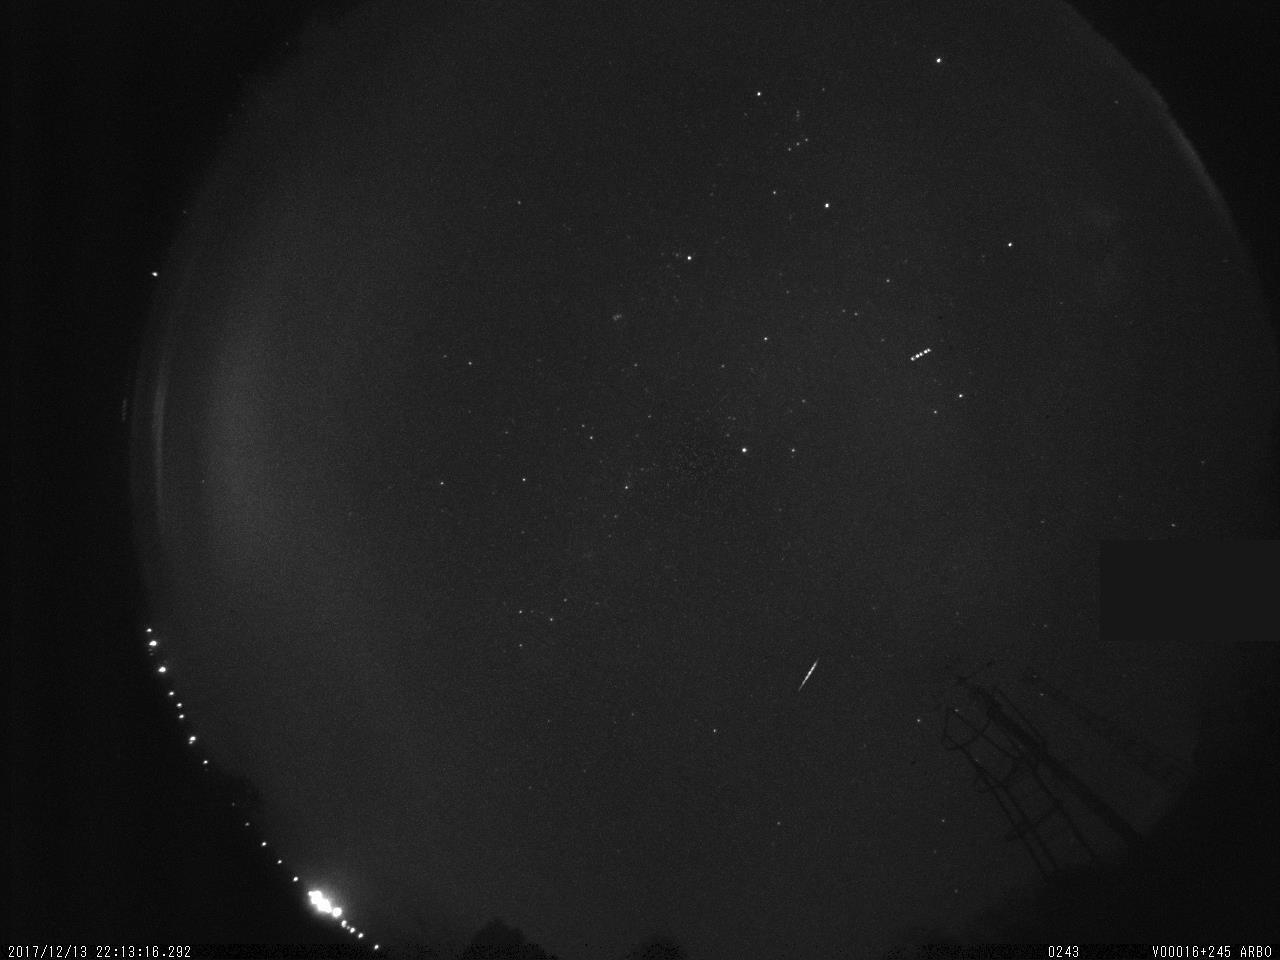meteor: (786, 642, 837, 695)
